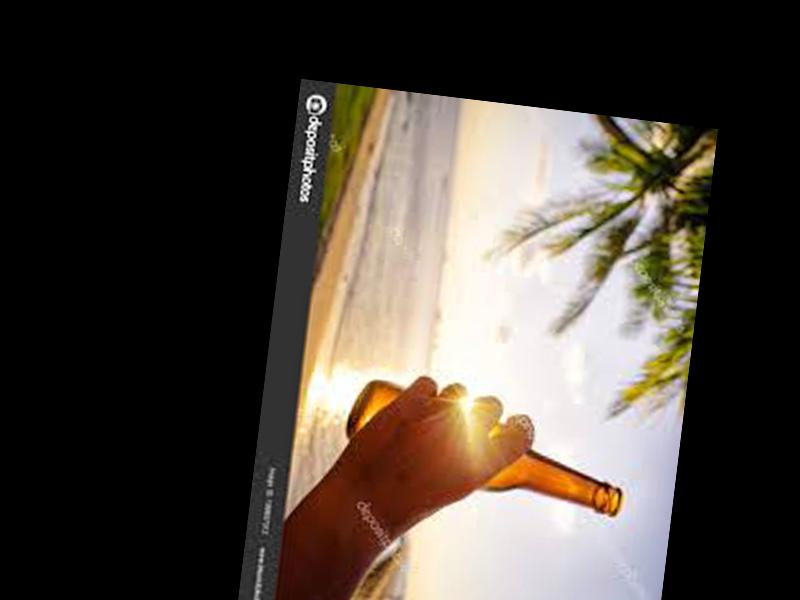Beer: (339, 377, 632, 518)
